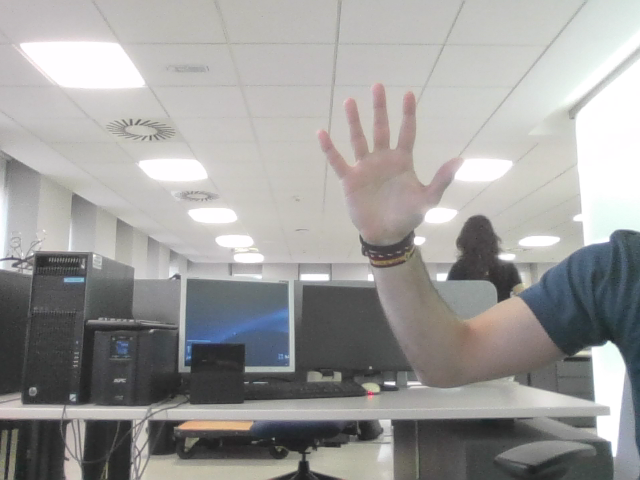Mano Abierta: (325, 96, 447, 214)
